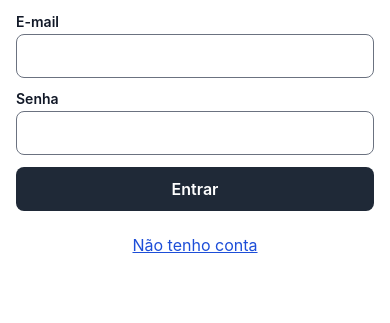
Test: a rejected sign-in shows a message and frees the button
Type "ana@exemplo.com" into the field with test id "login.email".
click(195, 56); type("ana@exemplo.com")  # box top-left (16, 34), bottom-right (374, 78)
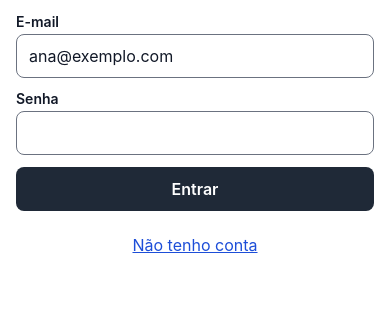
Type "segredo123" into the password field with test id "login.password".
click(195, 133); type("segredo123")  # box top-left (16, 111), bottom-right (374, 155)
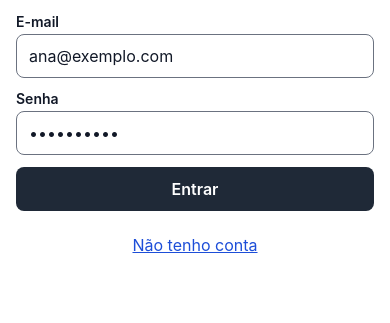
Click the button with test id "login.submit".
click(195, 189)  # box top-left (16, 167), bottom-right (374, 211)
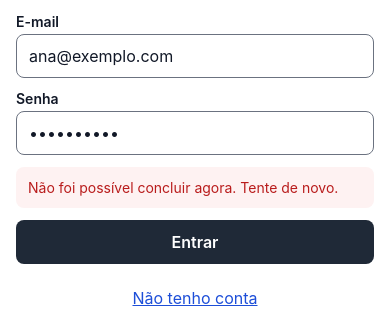
Expected: the button with test id "login.submit" is enabled, top-left (16, 220), bottom-right (374, 264)
Expected: the message with test id "login.error" reads "Não foi possível concluir agora. Tente de novo.", top-left (28, 179), bottom-right (338, 196)
